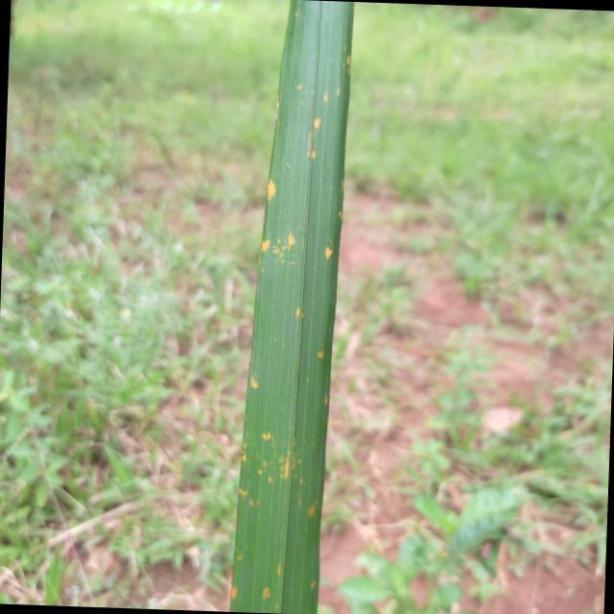Kalium: (227, 0, 353, 614)
